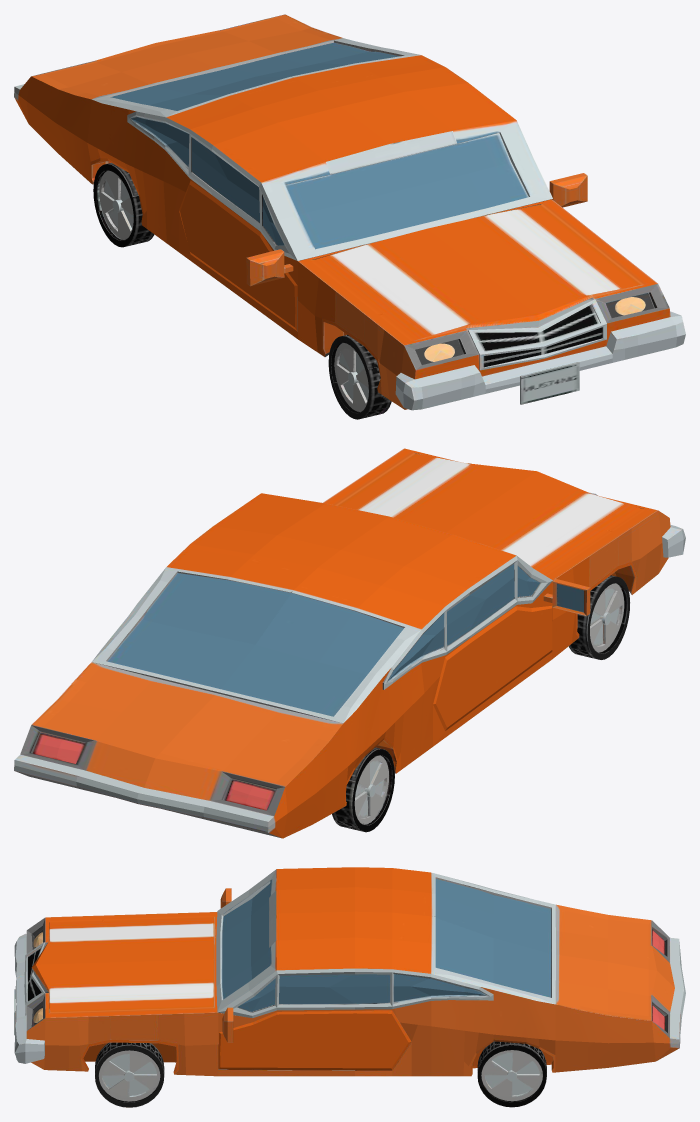
Rendered from mustang_coloredv2.fbx.
3 views of the same model, one above another, from view 1: azimuth 30°, elevation 25°; view 2: azimuth 150°, elevation 25°; view 3: azimuth 270°, elevation 25° (orthographic). The views are drawn at different scales.
Parts seen in each view (by area): view 1: mainbody, rwheel1, rwheel2; view 2: mainbody, rwheel2, rwheel1; view 3: mainbody, lwheel1, lwheel2.
Part boxes in pixels (box(x1,y1,x2,y2)): mainbody: box(14, 14, 685, 410); rwheel1: box(328, 335, 391, 419); rwheel2: box(93, 163, 154, 247); mainbody: box(14, 448, 685, 838); rwheel2: box(332, 747, 394, 832); rwheel1: box(568, 575, 630, 659); mainbody: box(14, 867, 685, 1076); lwheel1: box(95, 1042, 164, 1107); lwheel2: box(477, 1041, 546, 1107).
Size of the model in its own units: 541 by 271 by 1144.
